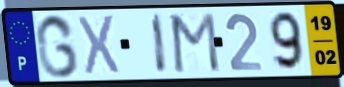2: (223, 11, 266, 72)
9: (266, 9, 306, 72)
G: (34, 12, 81, 80)
I: (150, 12, 170, 76)
M: (169, 11, 222, 75)
X: (76, 13, 122, 77)
